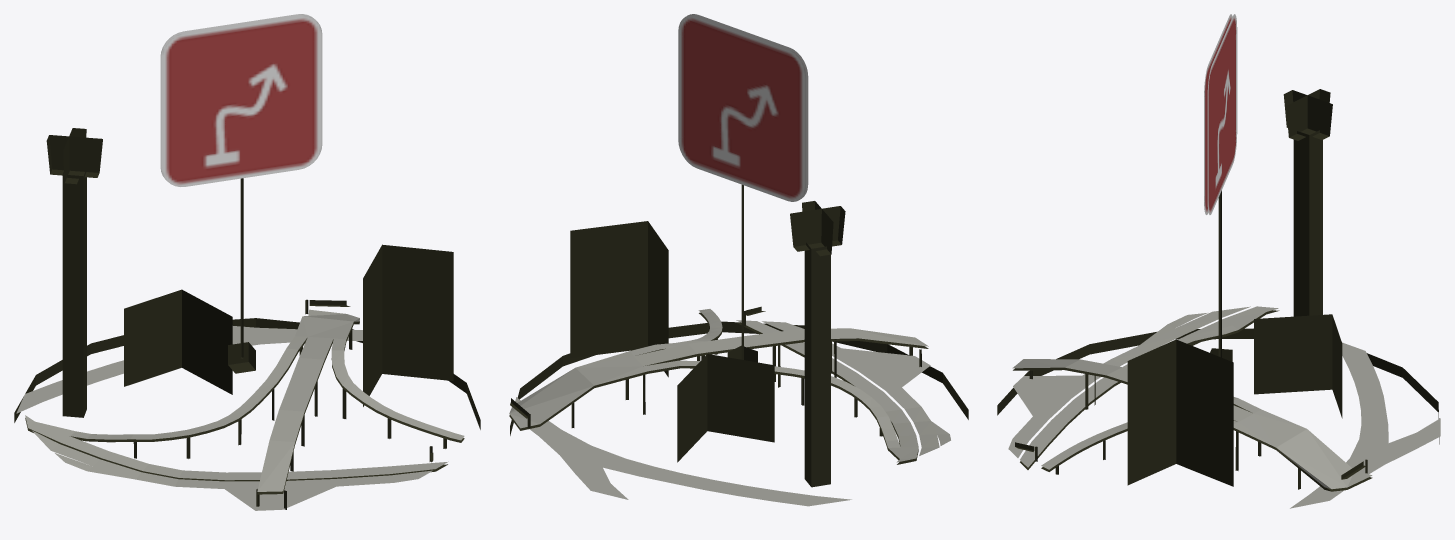
The model's file is cmr5Icon.icn.obj.
3 renders of one model, left to right at view 1: azimuth 30°, elevation 25°; view 2: azimuth 150°, elevation 25°; view 3: azimuth 270°, elevation 25°, orthographic. The views are drawn at different scales.
Bounding box in the file's own units: 5 × 4.84 × 5.
1 material, 1 textured.
